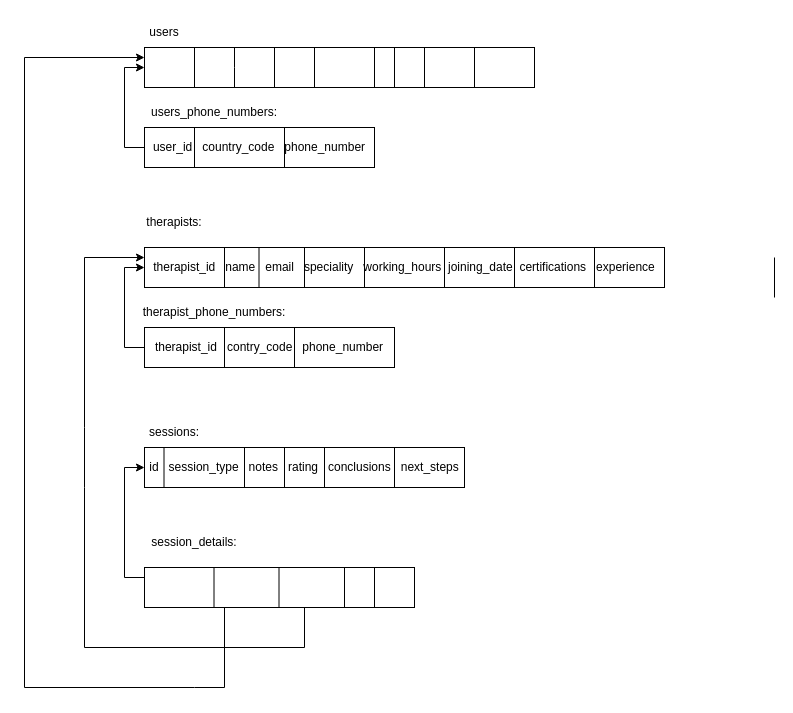
This 793x713 diagram has some shape labels left out. The shapes that lost their labels are listed below. From the top down, each one's centre as x and y in pixels, then its label:
[339,67]: user_id name country email password role DoB gender language
[279,587]: session_id patient_id therapist_id time date
